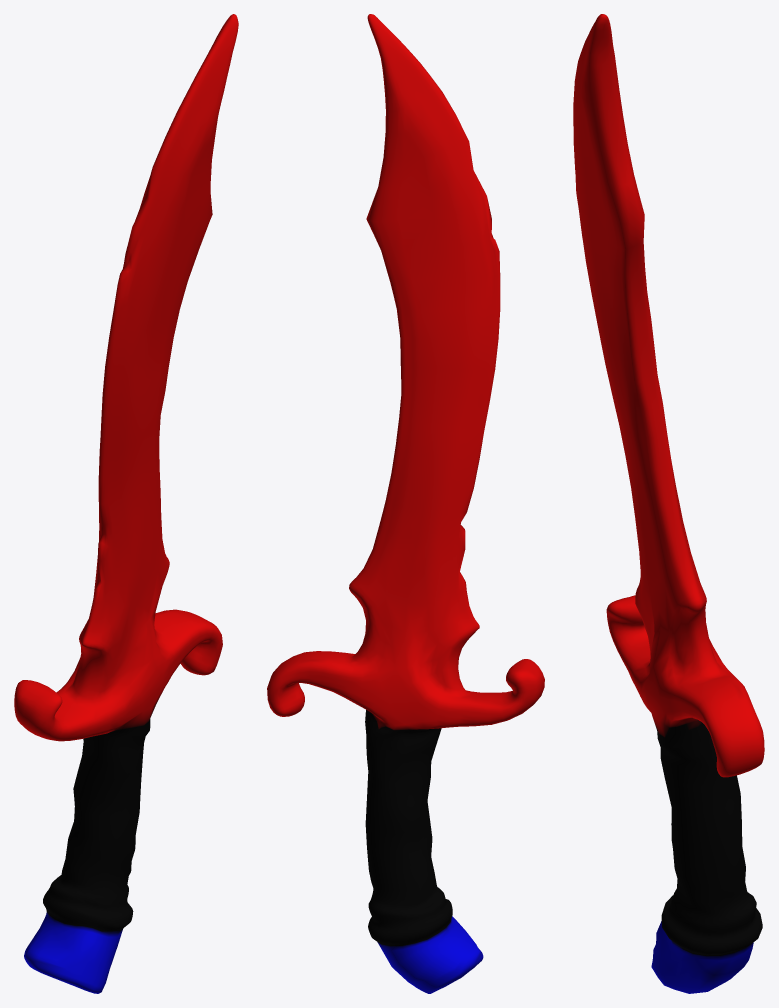
Rendered from metal_scim.glb.
The picture shows the model from 3 angles, left to right: view 1: azimuth 30°, elevation 25°; view 2: azimuth 150°, elevation 25°; view 3: azimuth 270°, elevation 25°; orthographic projection. The views are drawn at different scales.
Parts seen in each view (by area): view 1: scim; view 2: scim; view 3: scim.
Part boxes in pixels (box(x1,y1,x2,y2)): scim: box(14, 14, 238, 993); scim: box(267, 14, 544, 993); scim: box(573, 14, 764, 993).
Size of the model in its own units: 0.593 by 2.27 by 0.381.
